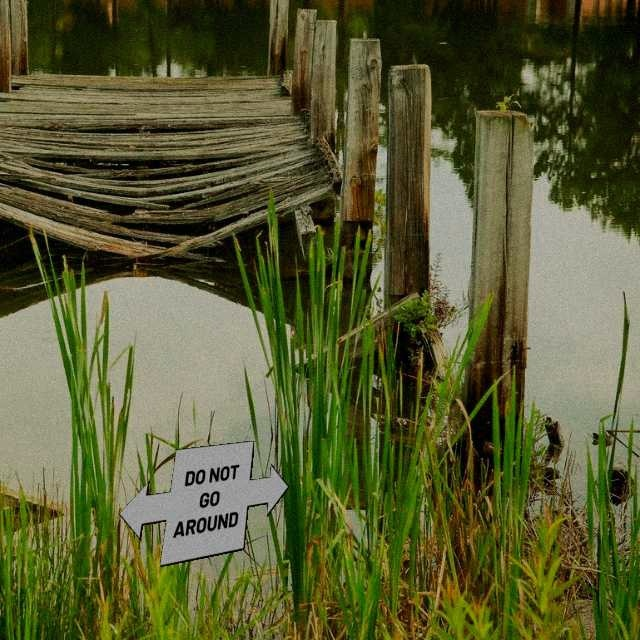DO_NOT_GO_AROUND: (118, 440, 289, 567)
